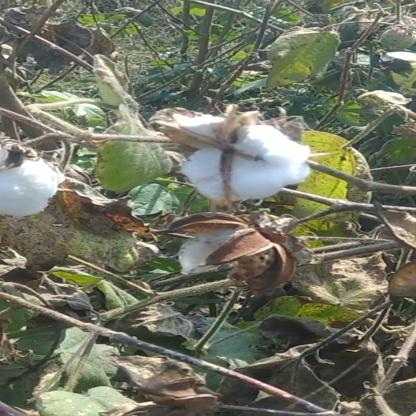cotton_ready: (130, 110, 340, 218)
